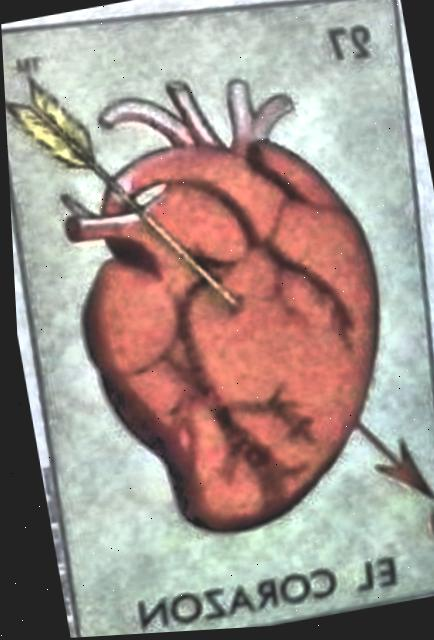El Corazon: (1, 0, 434, 638)
